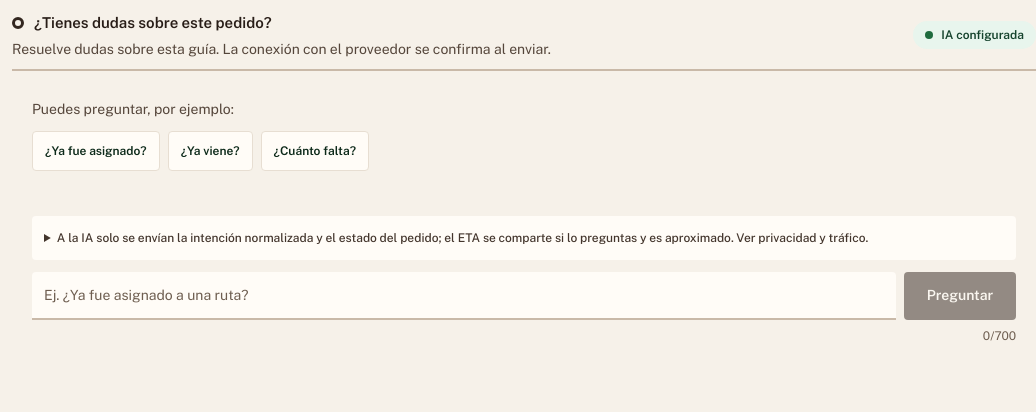
Scenario: CustomerOrderChat › shows the backend recovery message when the assistant is not configured
This screenshot has width=1036, height=412.
Type "¿Ya viene?" into the field named "Escribe tu pregunta sobre el pedido" at [464, 296], box [32, 272, 896, 320]
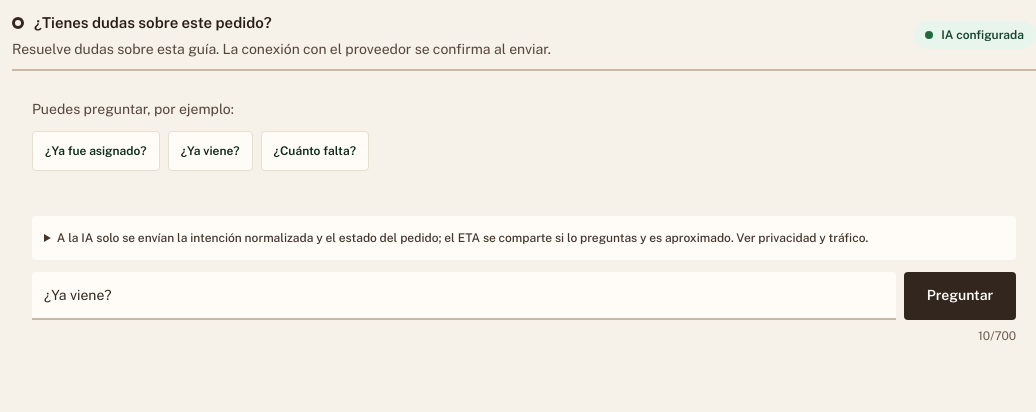
Click the button "Preguntar" at [960, 296], box [904, 272, 1016, 320]
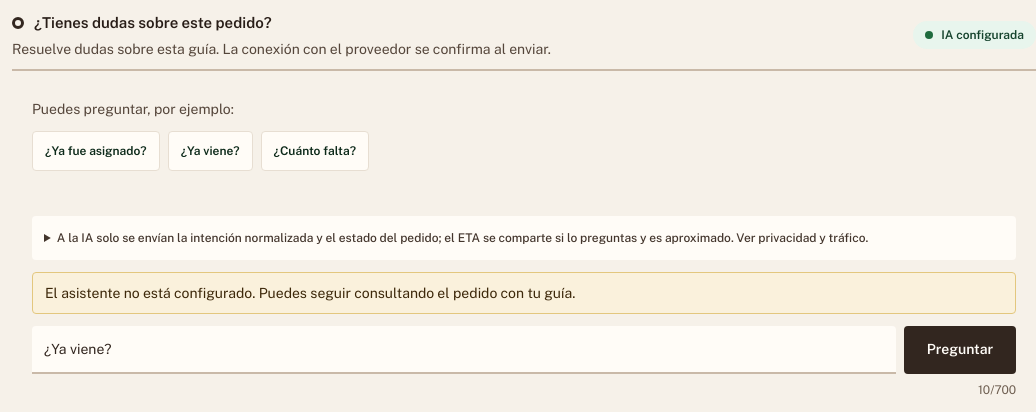
expect the message shows "El asistente no está configurado": met, box [45, 284, 575, 300]
expect the message shows "Puedes seguir consultando el pedido con tu guía.": met, box [45, 284, 575, 300]
